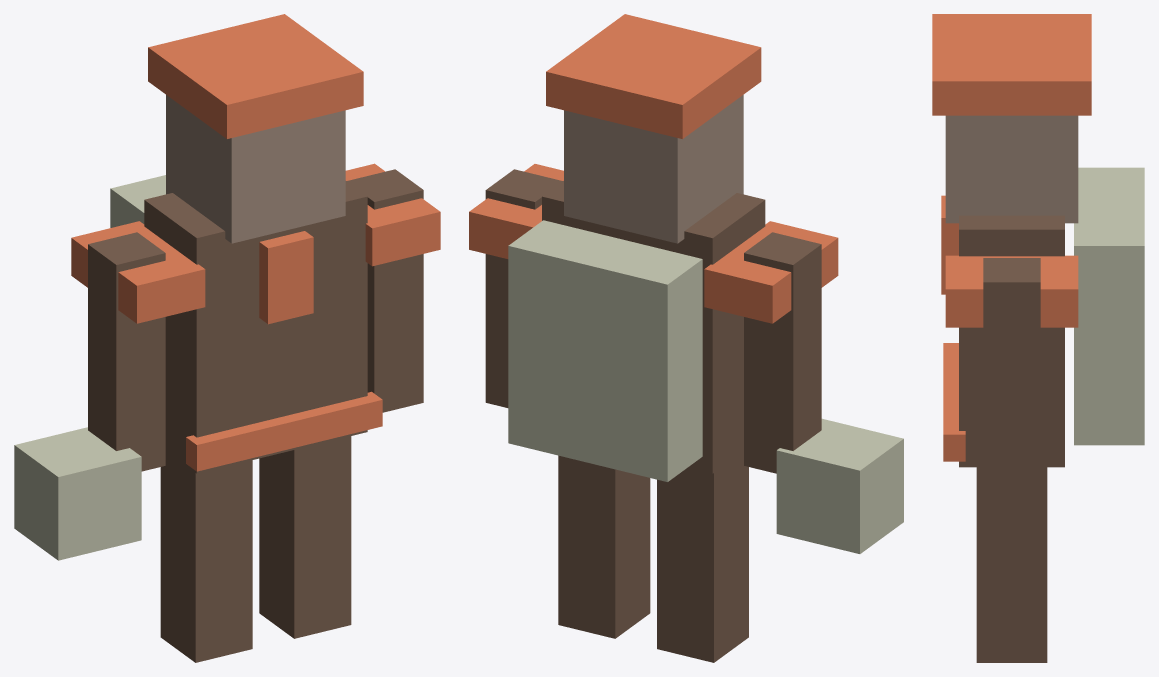
File: 09_vela_skyharrow_courier_of_tuning.glb
3 views of the same model, side by side, from view 1: azimuth 30°, elevation 25°; view 2: azimuth 150°, elevation 25°; view 3: azimuth 270°, elevation 25° (orthographic).
Visible parts, largest first — view 1: Vela Skyharrow, Courier of Tuning; view 2: Vela Skyharrow, Courier of Tuning; view 3: Vela Skyharrow, Courier of Tuning.
Boxes of the visible parts, x1,y1,x2,y2 form: Vela Skyharrow, Courier of Tuning: [14, 14, 440, 662]; Vela Skyharrow, Courier of Tuning: [469, 14, 903, 662]; Vela Skyharrow, Courier of Tuning: [932, 14, 1144, 662].
Bounding box in the file's own units: 1.08 × 1.56 × 0.5206.
